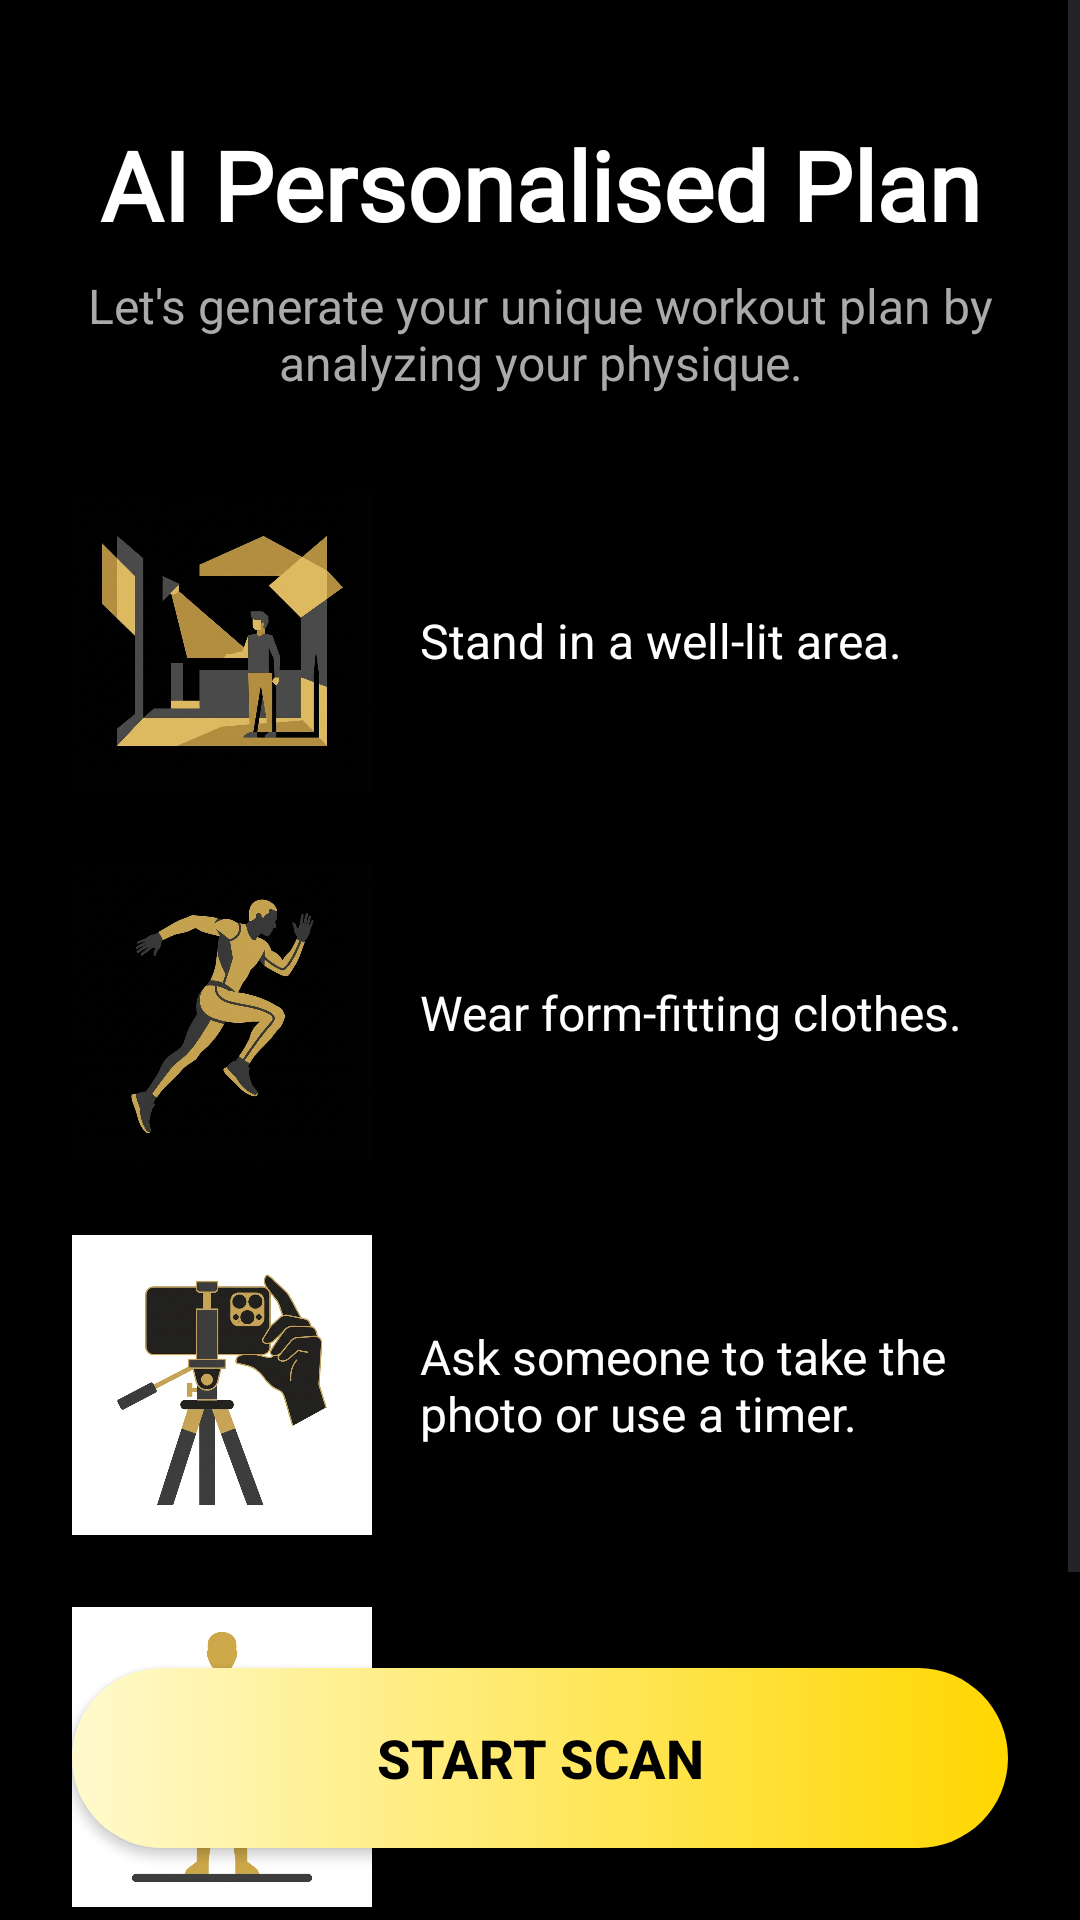

Screen size 1080×1920. Icon name, then its box in pixels as (x1, y1, x2, y2):
instruction camera: (72, 1235, 372, 1535)
instruction clothing: (131, 899, 313, 1133)
instruction lighting: (102, 536, 343, 746)
